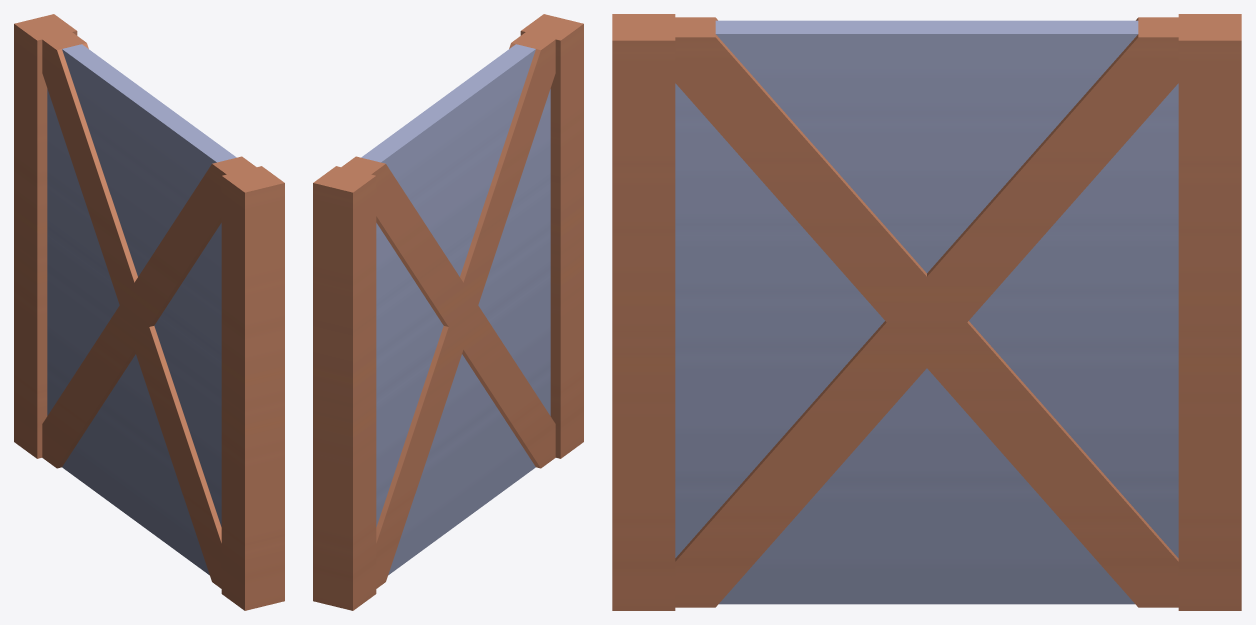
Rendered from wall-detail-cross.fbx.
3 views of the same model, side by side, from view 1: azimuth 30°, elevation 25°; view 2: azimuth 150°, elevation 25°; view 3: azimuth 270°, elevation 25° (orthographic). The views are drawn at different scales.
Parts seen in each view (by area): view 1: wall-detail-cross; view 2: wall-detail-cross; view 3: wall-detail-cross.
Part boxes in pixels (box(x1,y1,x2,y2)): wall-detail-cross: box(14, 14, 284, 610); wall-detail-cross: box(313, 14, 583, 610); wall-detail-cross: box(612, 14, 1241, 610).
Size of the model in its own units: 10 by 100 by 100.
Materials: 1 (1 with a texture image).
